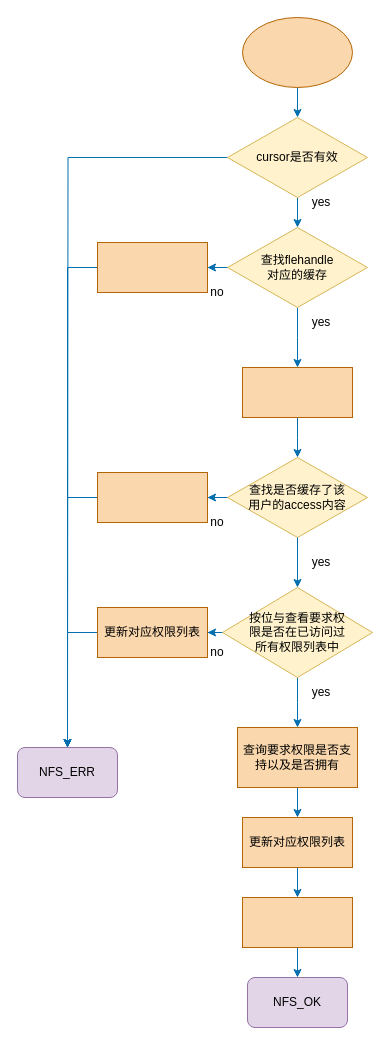
Some shapes in this 390 by 1045 pixel diagram are drawn without their labels. The shapes that lost their labels are listed below. From the top down, each one's box as (x1, y1, x2, y2) in pixels, then its label:
(242, 16, 352, 88): start
(96, 242, 208, 292): 创建该filehandle的access缓存
(242, 366, 352, 418): 计算用户id 对应hash值
(96, 472, 208, 522): 插入/替换该用户对应的缓存
(242, 896, 352, 948): 记录回复包内容 并更新指针
